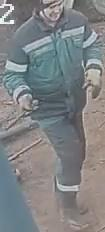gloves: (13, 88, 40, 117), (82, 67, 102, 99)
vest: (7, 7, 87, 121)
